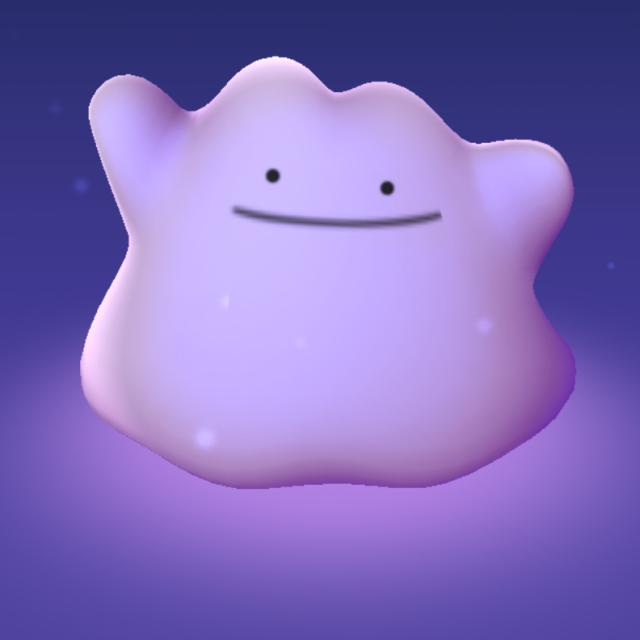Ditto: (75, 53, 586, 488)
